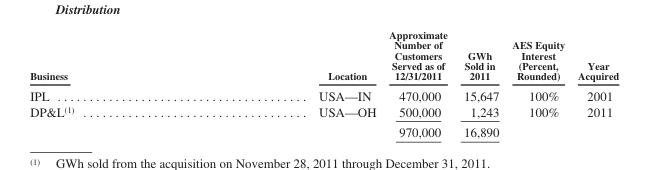table: (29, 28, 618, 139)
table column: (195, 28, 381, 139), (29, 28, 195, 139), (381, 28, 454, 139), (504, 28, 570, 139), (454, 28, 504, 139), (570, 28, 618, 139)
table column header: (29, 28, 618, 85)
table row: (29, 28, 618, 85), (29, 85, 618, 103), (29, 103, 618, 121), (29, 121, 618, 139)
table spanning cell: (29, 103, 195, 139)
